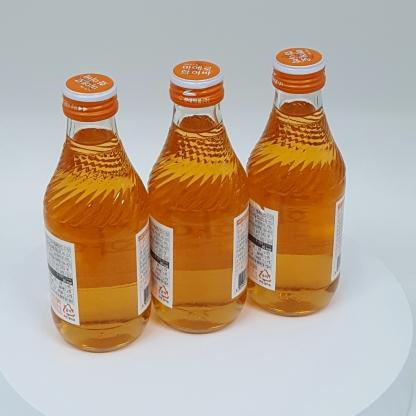--------210ML: (43, 73, 152, 353), (148, 59, 249, 334), (246, 47, 346, 317)
